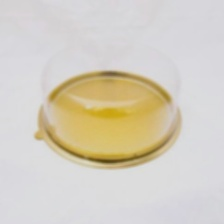plastic_box: (26, 25, 193, 172)
